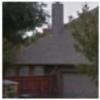chimneys: (50, 2, 64, 36)
